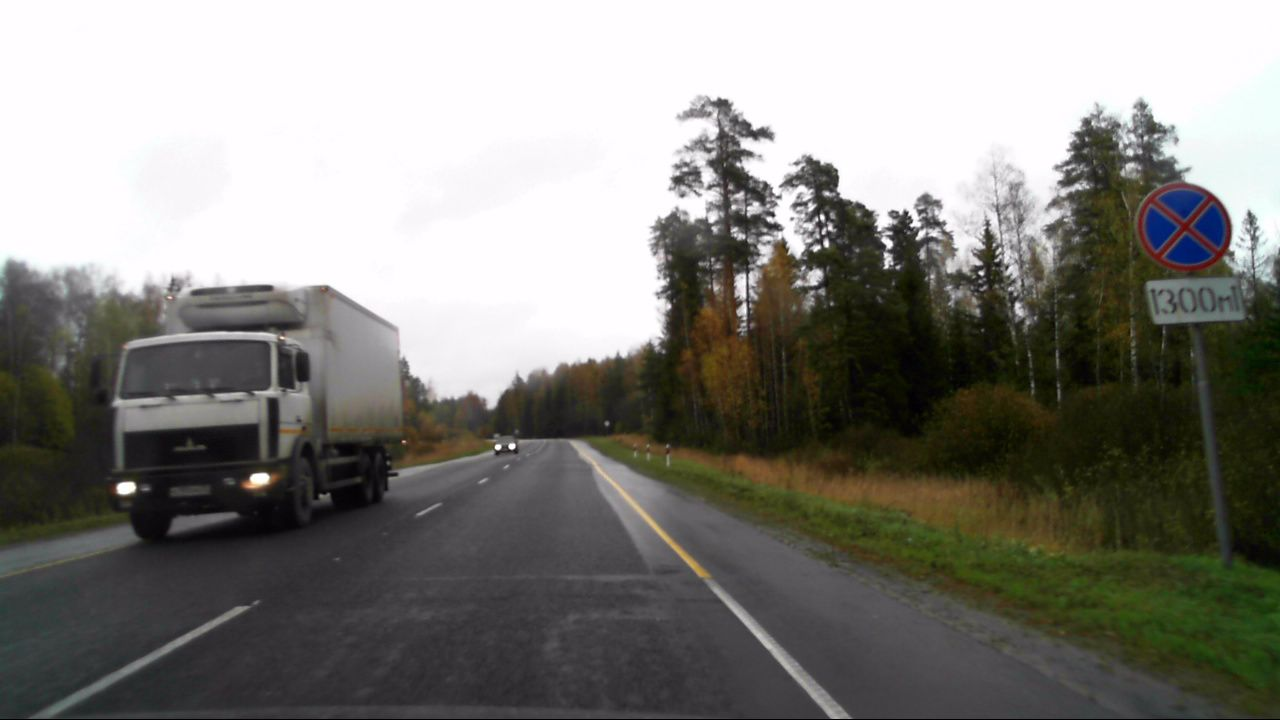No Parking: (1130, 182, 1234, 276)
